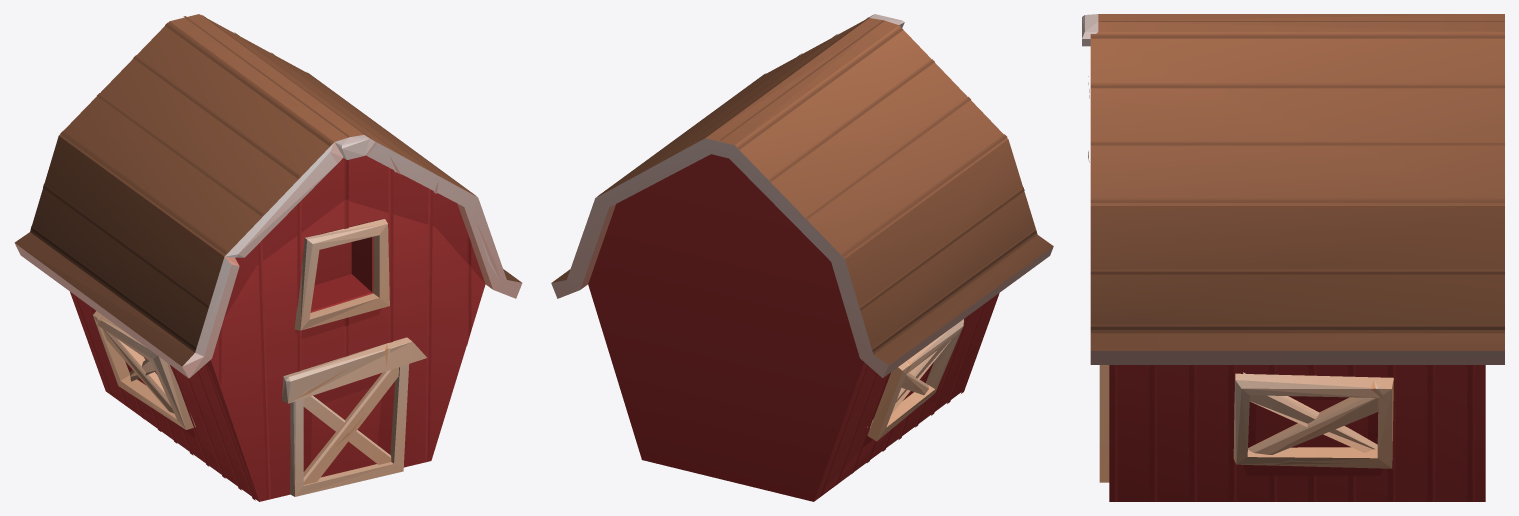
The model's file is barn-red.glb.
The picture shows the model from 3 angles, left to right: view 1: azimuth 30°, elevation 25°; view 2: azimuth 150°, elevation 25°; view 3: azimuth 270°, elevation 25°; orthographic projection. The views are drawn at different scales.
Parts seen in each view (by area): view 1: cf_barnlvl2; view 2: cf_barnlvl2; view 3: cf_barnlvl2.
Boxes of the visible parts, bbox=[...] form: cf_barnlvl2: bbox=[14, 14, 522, 501]; cf_barnlvl2: bbox=[551, 14, 1053, 501]; cf_barnlvl2: bbox=[1082, 14, 1504, 501].
Size of the model in its own units: 5.34 by 5.23 by 4.67.
